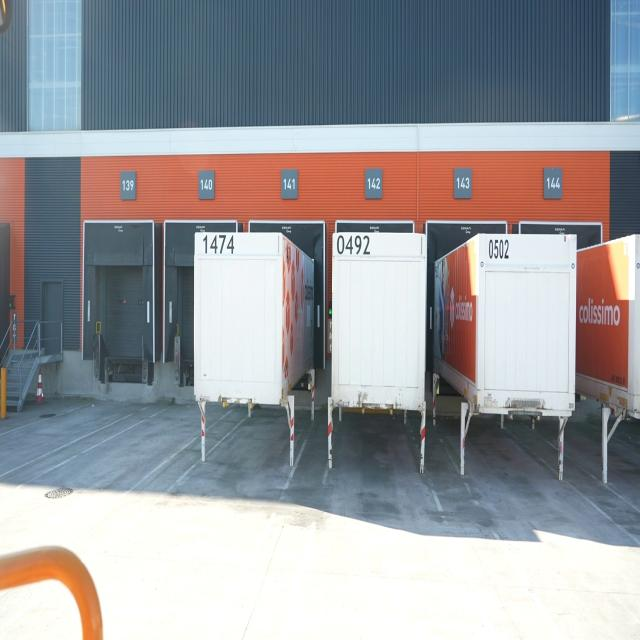Code: (334, 232, 375, 262), (200, 231, 237, 260), (486, 234, 514, 266)
